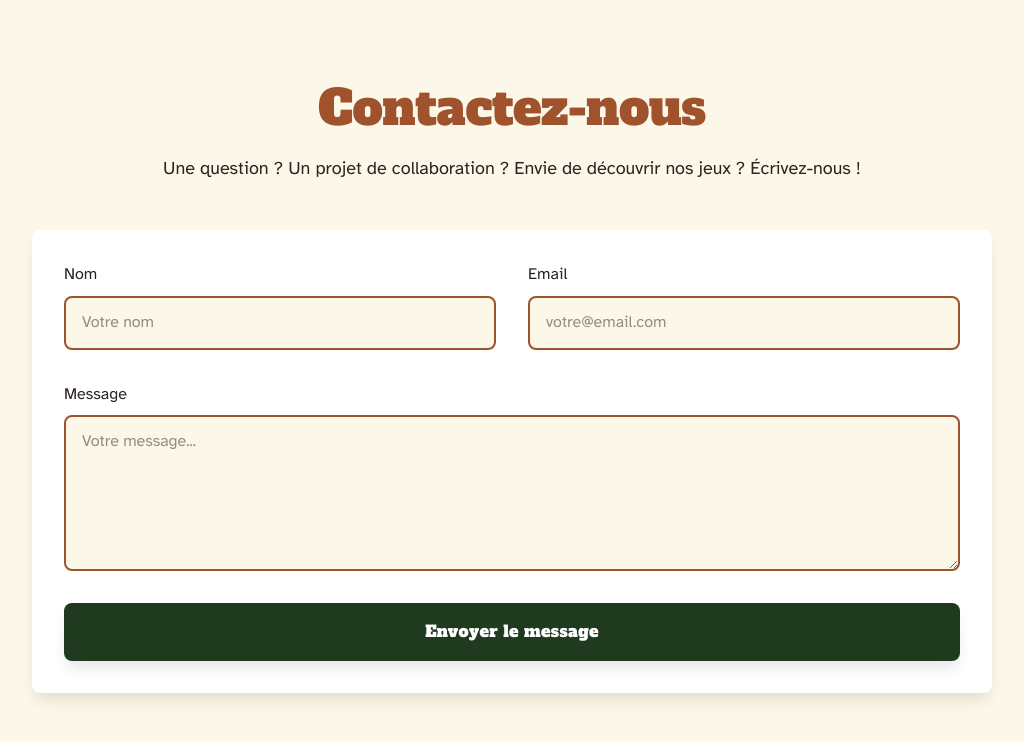
Test: Formulaire de contact › email invalide : l'erreur de format s'affiche
In the field labelled "Email": (744, 323) [528,296,960,350], type "pas-un-email"
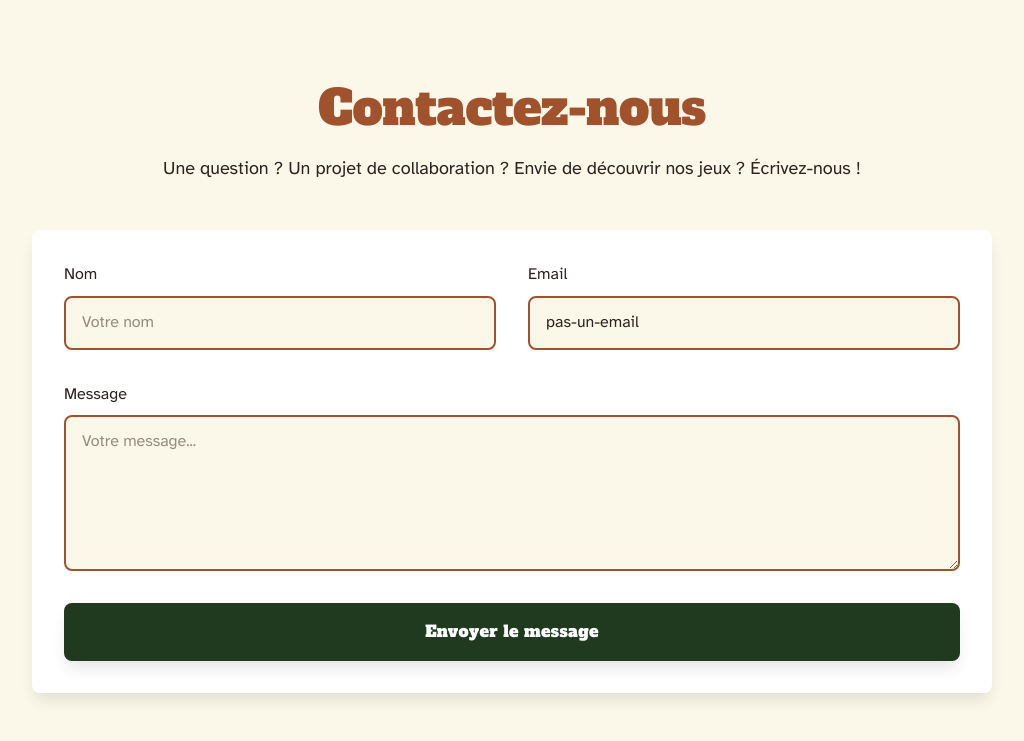
Click the button "Envoyer le message": click(512, 632) [64,603,960,661]
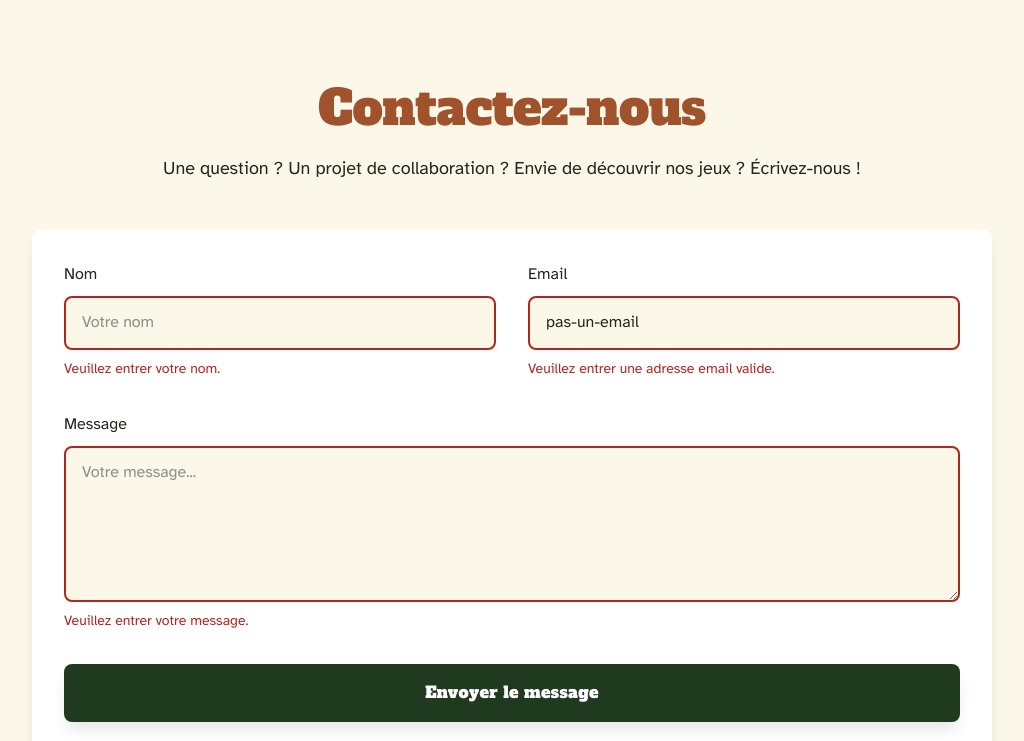
Check: the text "Veuillez entrer une adresse email valide." is shown, box [528,360,775,377]
